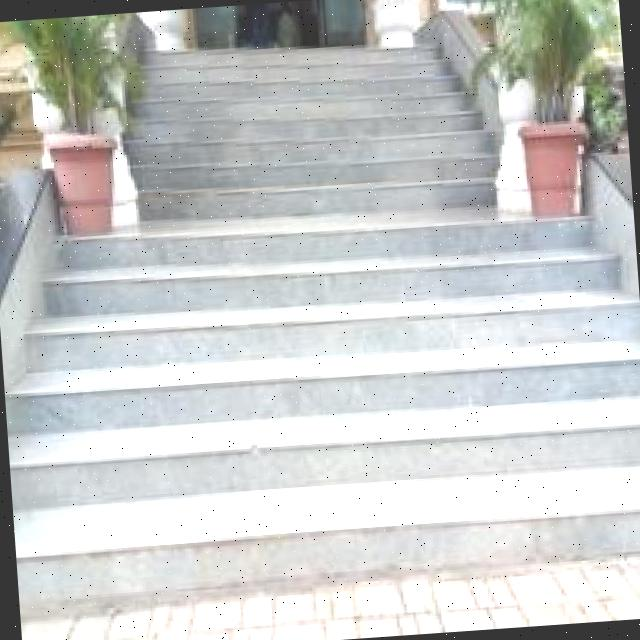stairs: (0, 3, 640, 616)
